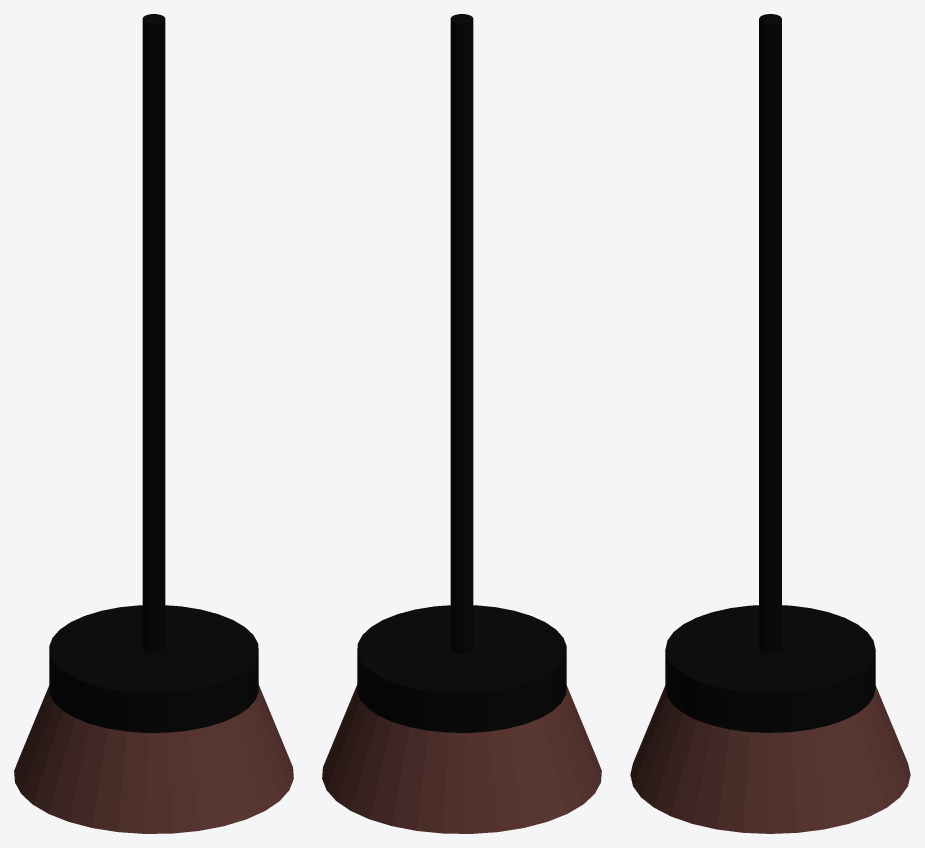
File: Lamp.glb
3 renders of one model, left to right at view 1: azimuth 30°, elevation 25°; view 2: azimuth 150°, elevation 25°; view 3: azimuth 270°, elevation 25°, orthographic.
Parts seen in each view (by area): view 1: Cylinder.101, Cylinder.102, Cylinder.103; view 2: Cylinder.101, Cylinder.102, Cylinder.103; view 3: Cylinder.101, Cylinder.102, Cylinder.103.
Part boxes in pixels (x1,y1,x2,y2): Cylinder.101: (14,685,293,833); Cylinder.102: (49,605,258,732); Cylinder.103: (142,14,165,653); Cylinder.101: (322,685,601,833); Cylinder.102: (357,605,566,732); Cylinder.103: (450,14,473,653); Cylinder.101: (630,686,910,833); Cylinder.102: (665,605,875,732); Cylinder.103: (759,14,781,653).
Bounding box in the file's own units: 0.7675 × 2.29 × 0.7675.
